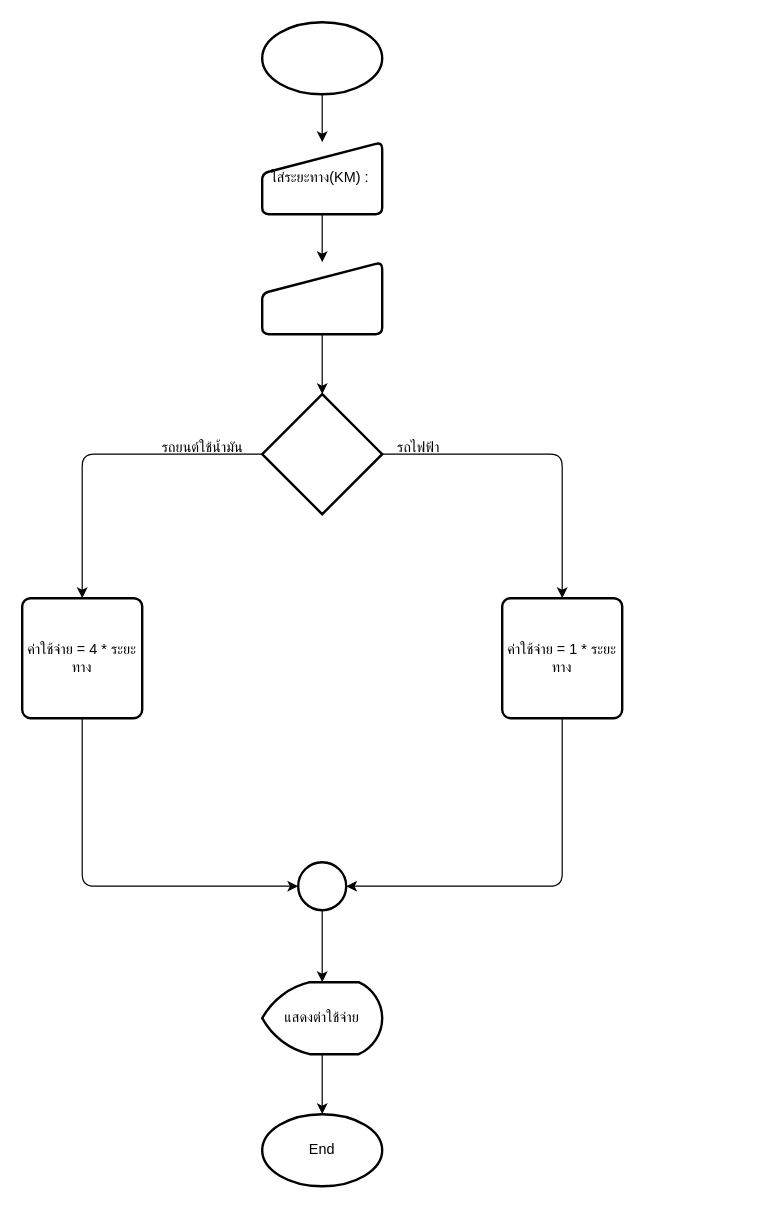
The diagram is 774 pixels wide and 1207 high, and some of its shapes have lost their labels. Each missing label, with the centre of its shape:
"Start" belongs at (x=321, y=57).
"ยานพาหนะ" belongs at (x=321, y=453).
"ใส่พาหนะ" belongs at (x=321, y=297).
